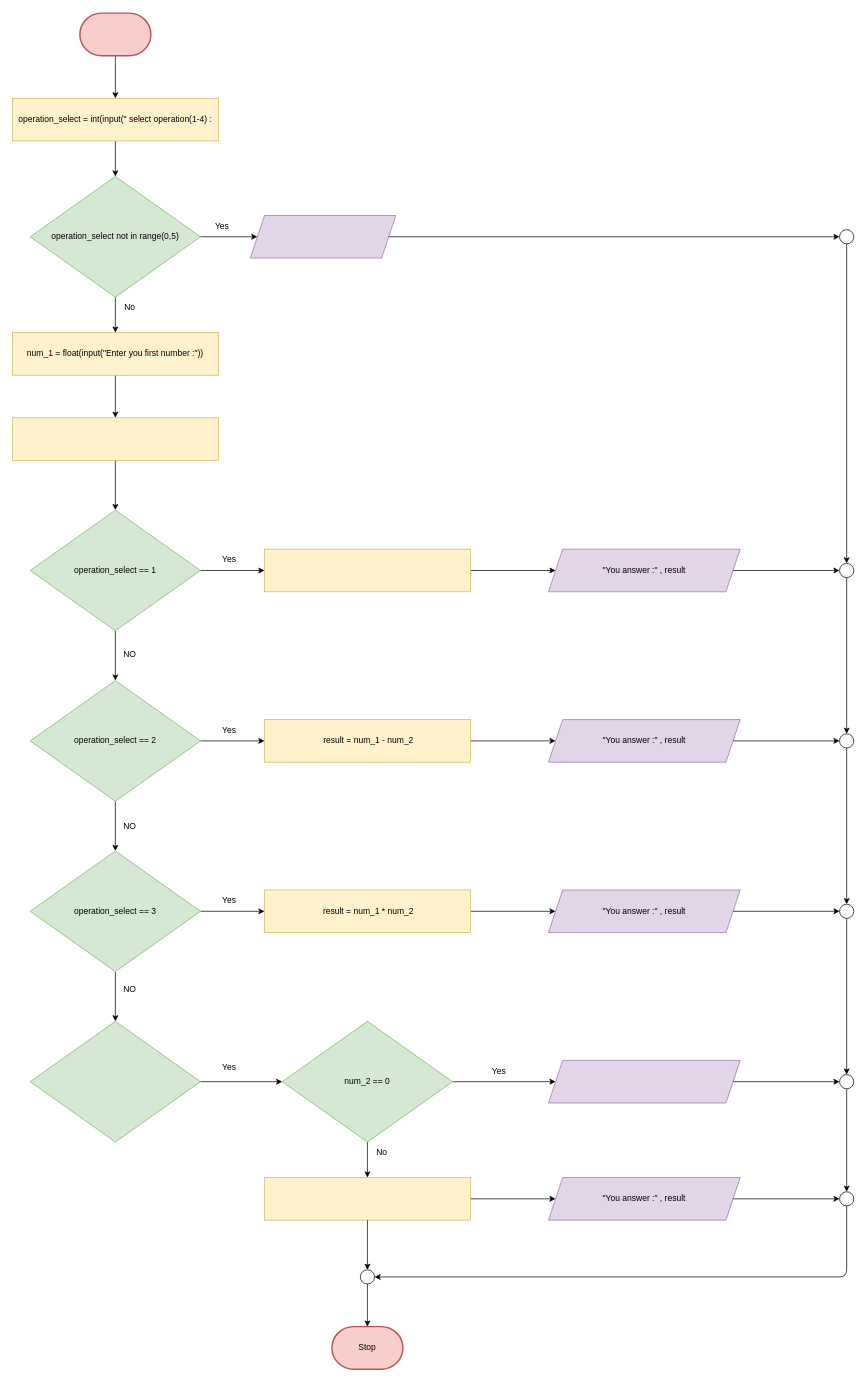
Image size: 866x1382. Some labels were removed from this diagram. Here are the shapes that lost their labels. From the top down, the centre of each, then its label:
[115,34]: Start
[323,236]: Error : invalid operation select
[115,438]: num_2 = float(input("Enter you second number :"))
[367,570]: result = num_1 + num_2
[115,1081]: operation_select == 4
[644,1081]: "Error : calcurarion fail"
[367,1198]: result = num_1 / num_2
